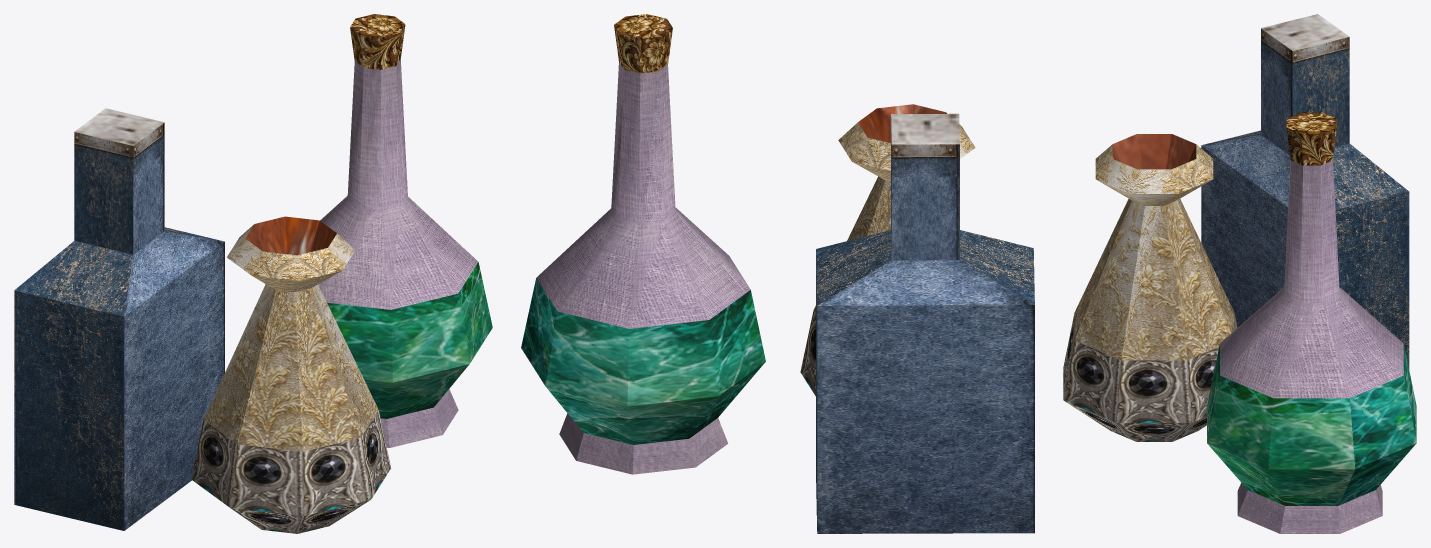
File: mm9_deco_shelfitem03f.glb
3 views of the same model, side by side, from view 1: azimuth 30°, elevation 25°; view 2: azimuth 150°, elevation 25°; view 3: azimuth 270°, elevation 25° (orthographic). The views are drawn at different scales.
Visible parts, largest first — view 1: Shelfitem03f; view 2: Shelfitem03f; view 3: Shelfitem03f.
Part boxes in pixels (box(x1,y1,x2,y2)): Shelfitem03f: box(14, 14, 492, 533); Shelfitem03f: box(521, 14, 1034, 533); Shelfitem03f: box(1063, 14, 1416, 533).
Bounding box in the file's own units: 0.4394 × 0.3556 × 0.2998.
Materials: 1 (1 with a texture image).
